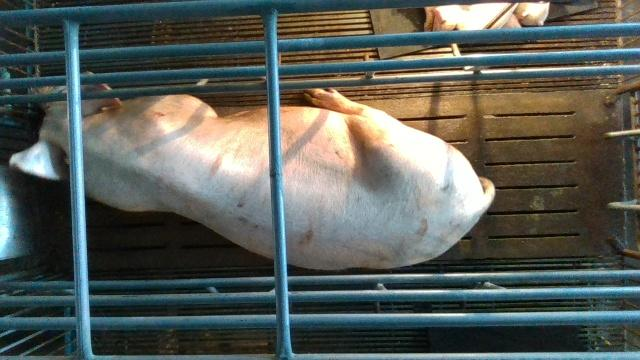sow-sit: (9, 73, 498, 271)
